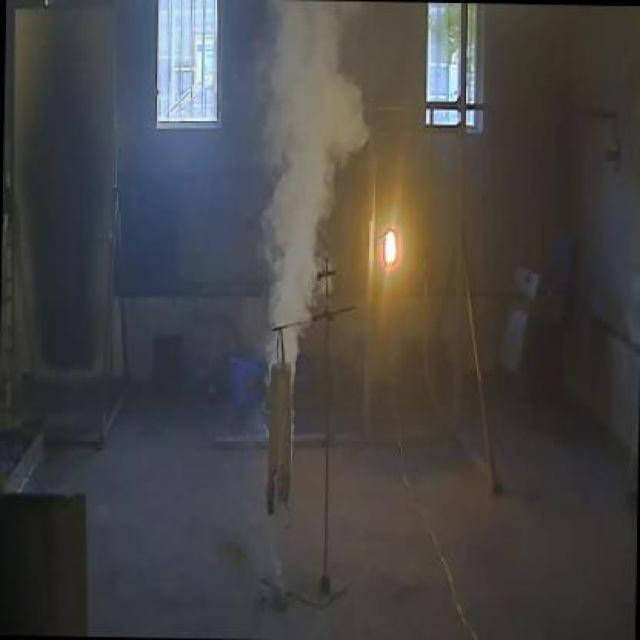fire: (254, 0, 370, 335)
